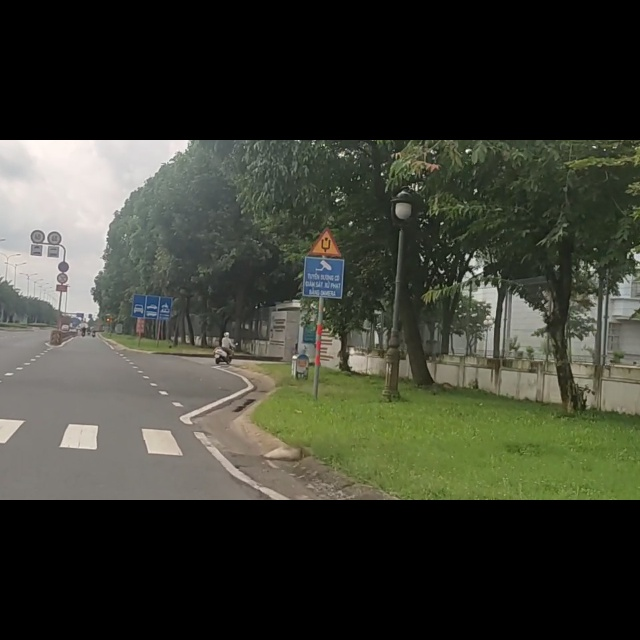bien_chi_dan: (130, 274, 173, 320), (308, 154, 342, 209), (29, 159, 46, 183), (47, 160, 62, 187)
